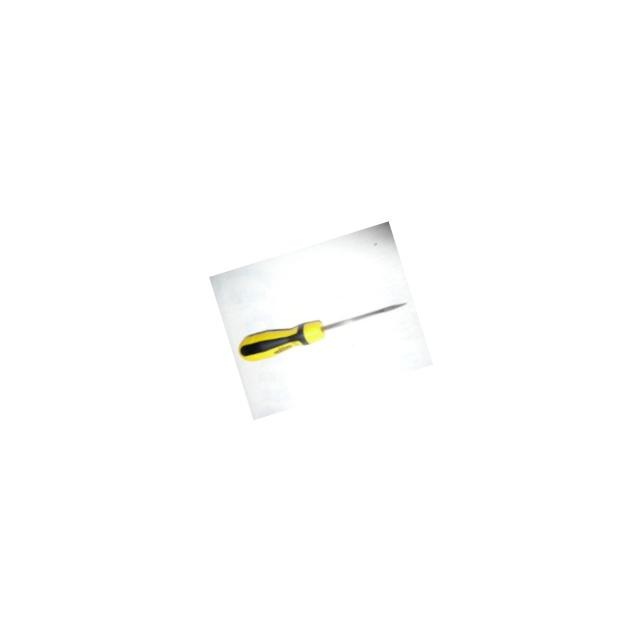screwdriver: (234, 286, 414, 370)
